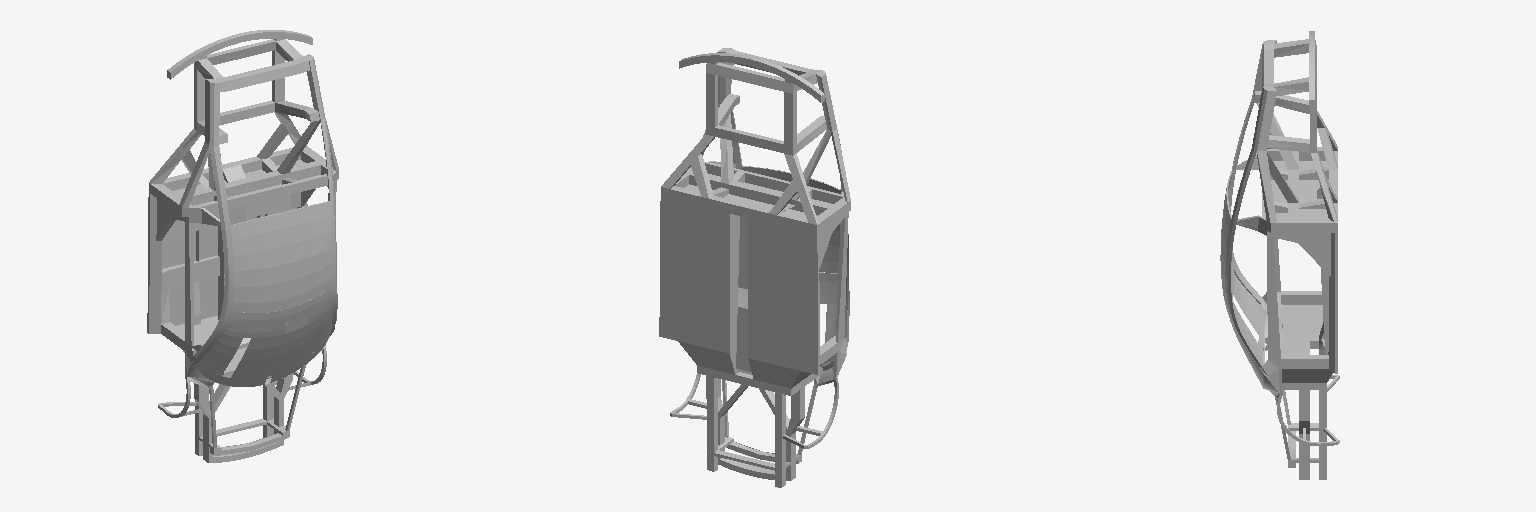
The model's file is car5.obj.
The picture shows the model from 3 angles: view 1: azimuth 30°, elevation 25°; view 2: azimuth 150°, elevation 25°; view 3: azimuth 270°, elevation 25°; orthographic projection.
Parts seen in each view (by area): view 1: Part1-779, Part1-777, Part1-760, Part1-751, Part1-1339, Part1-557, Part1-1335, Part1-1331, Part1-553, Part1-1367, Part1-1371, Part1-1382; view 2: Part1-1371, Part1-589, Part1-598, Part1-1380, Part1-585, Part1-600, Part1-1367, Part1-1382, Part1-1369, Part1-587, Part1-584, Part1-1331 (+3 smaller); view 3: Part1-549, Part1-218.
Part boxes in pixels (x1,y1,x2,y2): Part1-779: (239, 228, 285, 302); Part1-777: (284, 218, 326, 298); Part1-760: (231, 336, 275, 379); Part1-751: (273, 325, 307, 374); Part1-1339: (231, 213, 283, 240); Part1-557: (283, 202, 330, 227); Part1-1335: (236, 310, 283, 327); Part1-1331: (185, 222, 191, 346); Part1-553: (282, 291, 326, 323); Part1-1367: (199, 226, 217, 259); Part1-1371: (166, 234, 184, 267); Part1-1382: (199, 277, 217, 309); Part1-1371: (777, 273, 799, 310); Part1-589: (678, 249, 700, 285); Part1-598: (678, 300, 700, 336); Part1-1380: (777, 324, 799, 360); Part1-585: (708, 256, 729, 292); Part1-600: (708, 308, 729, 343); Part1-1367: (748, 266, 768, 302); Part1-1382: (748, 317, 768, 353); Part1-1369: (777, 246, 799, 277); Part1-587: (678, 221, 700, 253); Part1-584: (708, 229, 729, 260); Part1-1331: (838, 213, 848, 341); Part1-549: (1267, 236, 1280, 358); Part1-218: (1257, 151, 1276, 222).
Bounding box in the file's own units: 1736 × 4365 × 1125.